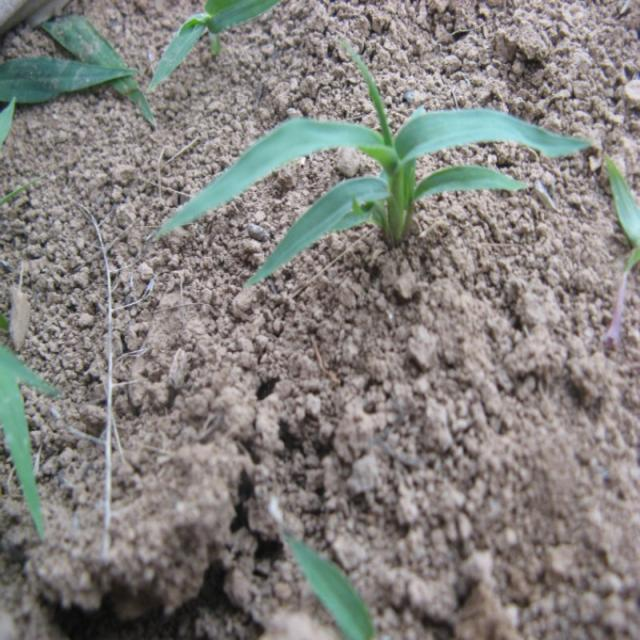bg: (153, 36, 593, 286)
